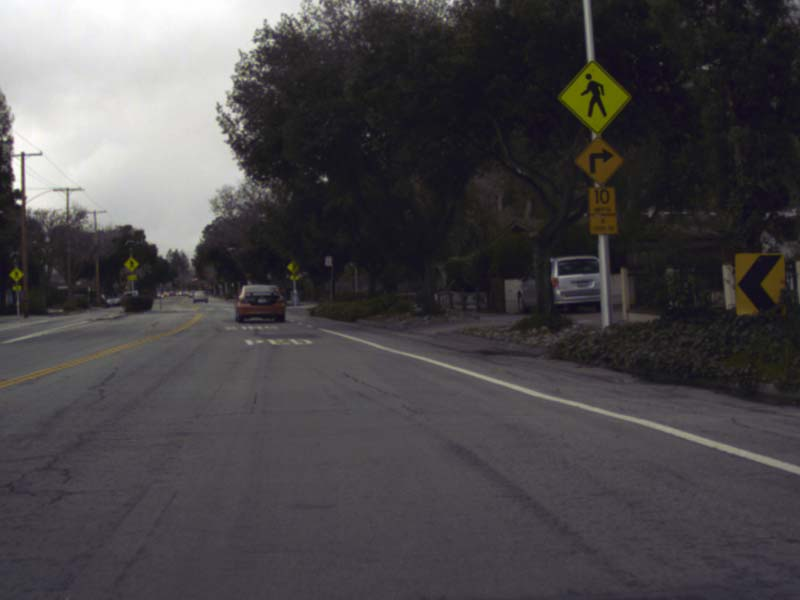Red: (194, 276, 199, 284), (204, 281, 208, 289)
